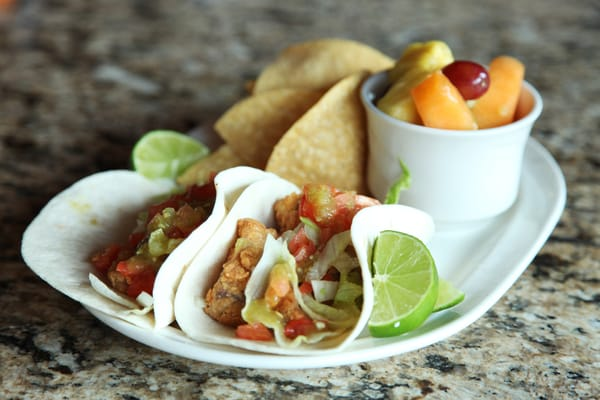sushi: (360, 39, 544, 223)
